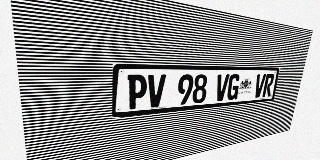8: (192, 74, 209, 104)
9: (177, 74, 194, 105)
G: (226, 74, 241, 100)
P: (127, 74, 148, 110)
R: (262, 74, 275, 97)
V: (146, 74, 166, 108), (214, 74, 230, 101), (253, 74, 266, 98)
